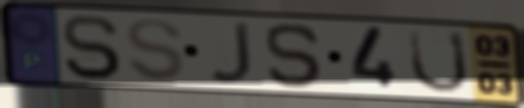4: (348, 23, 405, 95)
J: (205, 21, 255, 87)
S: (263, 21, 328, 91), (59, 12, 124, 82), (123, 16, 188, 84)
U: (406, 27, 472, 95)
